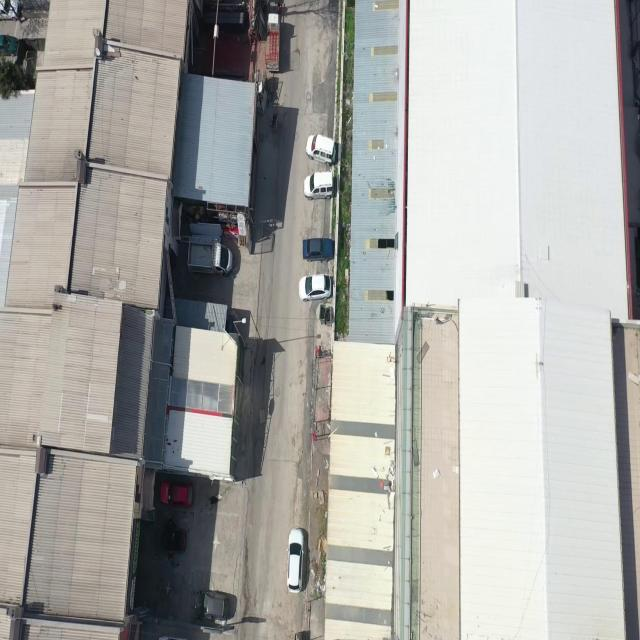p3rson: (164, 512, 171, 529), (170, 520, 176, 530), (277, 2, 282, 14), (168, 552, 175, 560), (172, 562, 180, 569)
